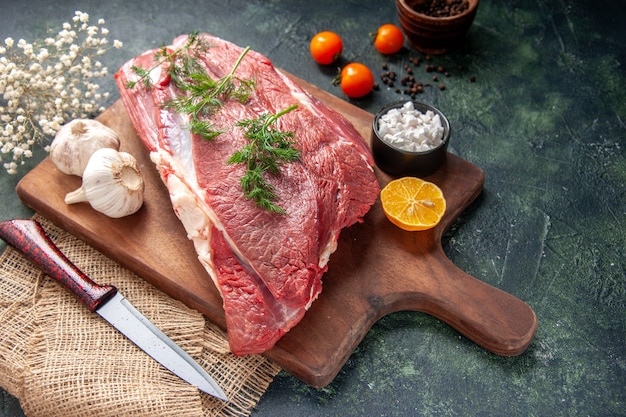knife: (0, 218, 232, 405)
